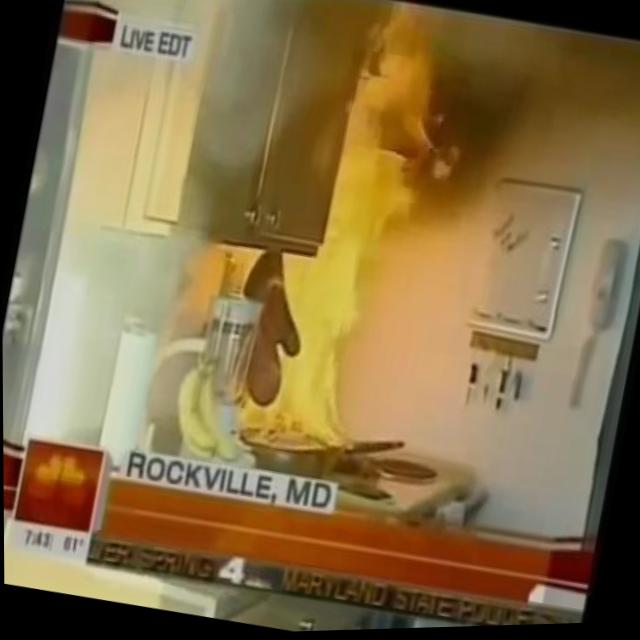fire: (323, 6, 482, 282), (202, 247, 392, 462)
